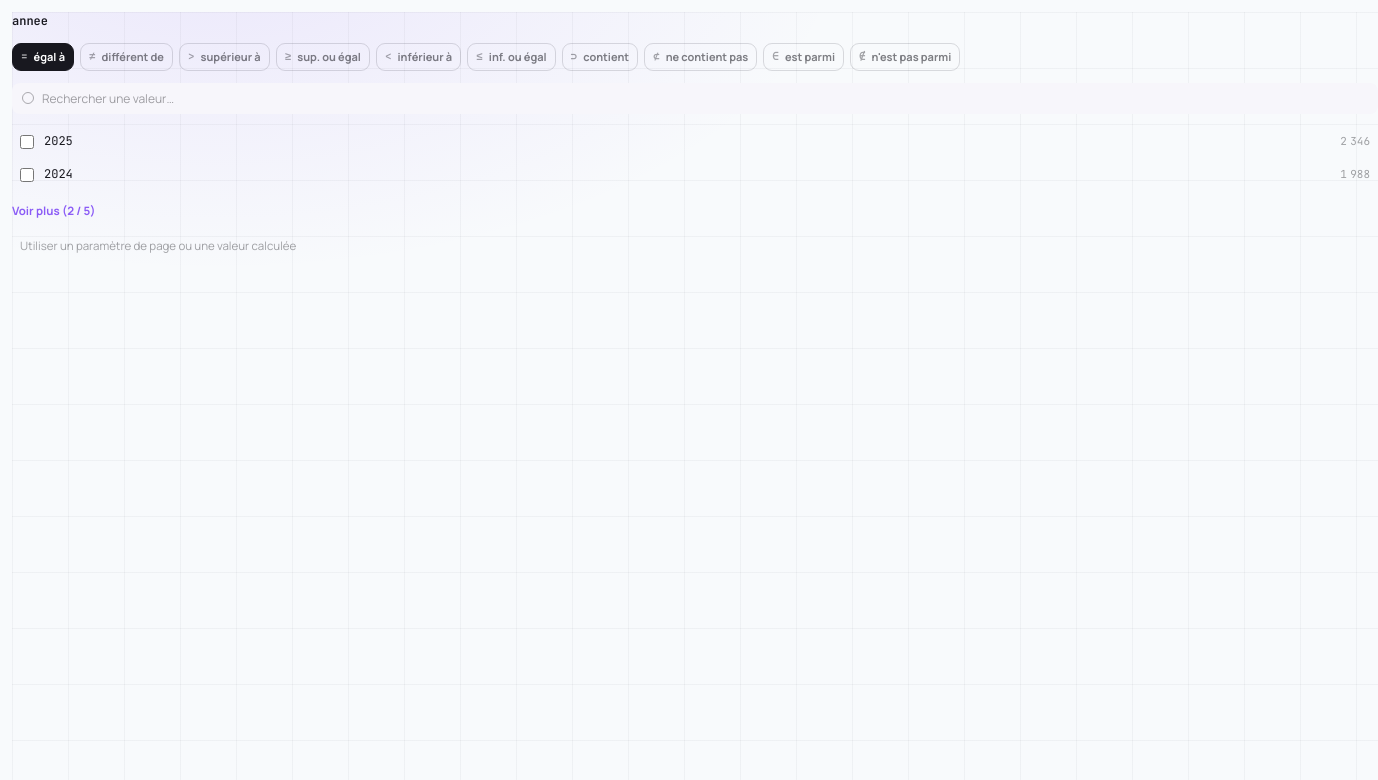
Test: FilterValuesStep › shows "Voir plus" while loaded < total and appends on click
Click the button "Voir plus (2 / 5)" at (54, 212), box [12,202,96,221]
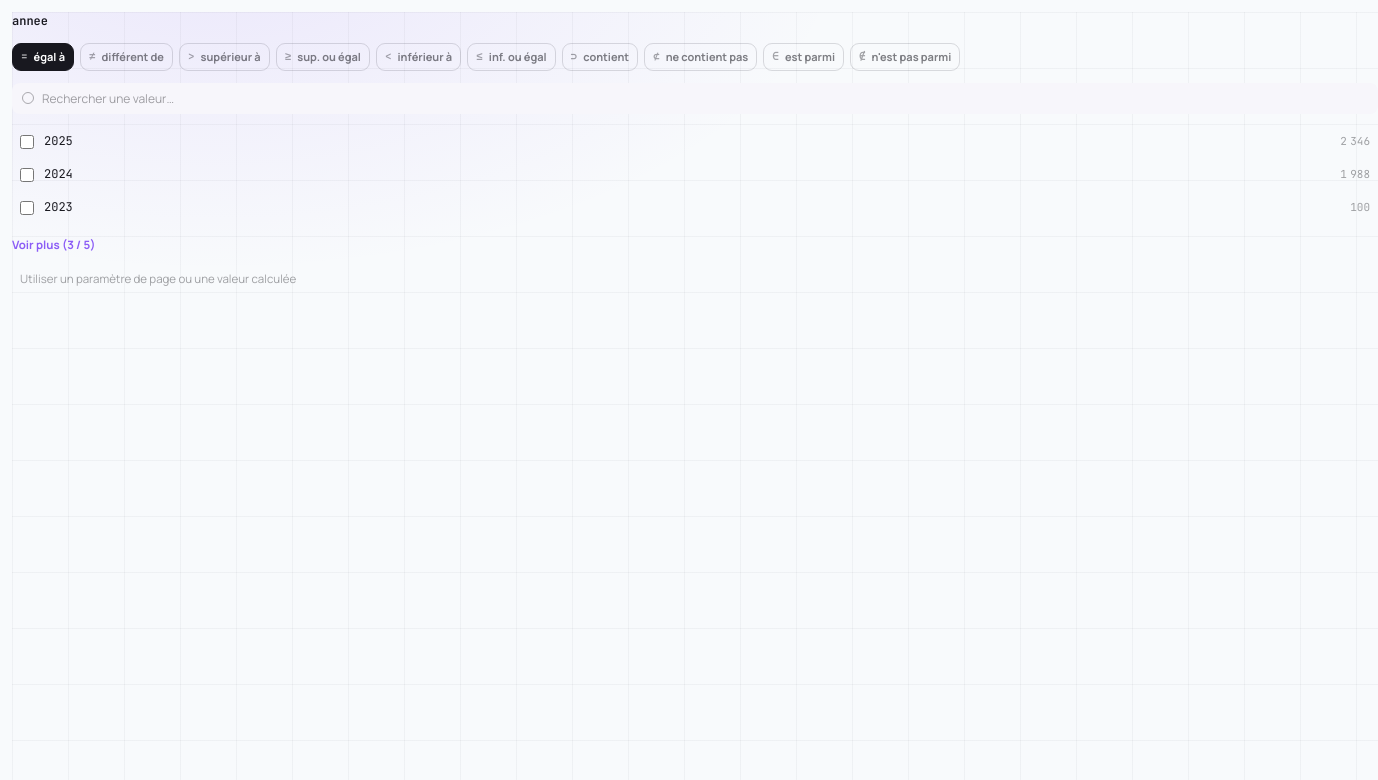
Expected: the text "2025" is shown, [44,133,73,149]
Now the text "2023" is shown, box [44,199,73,215]
